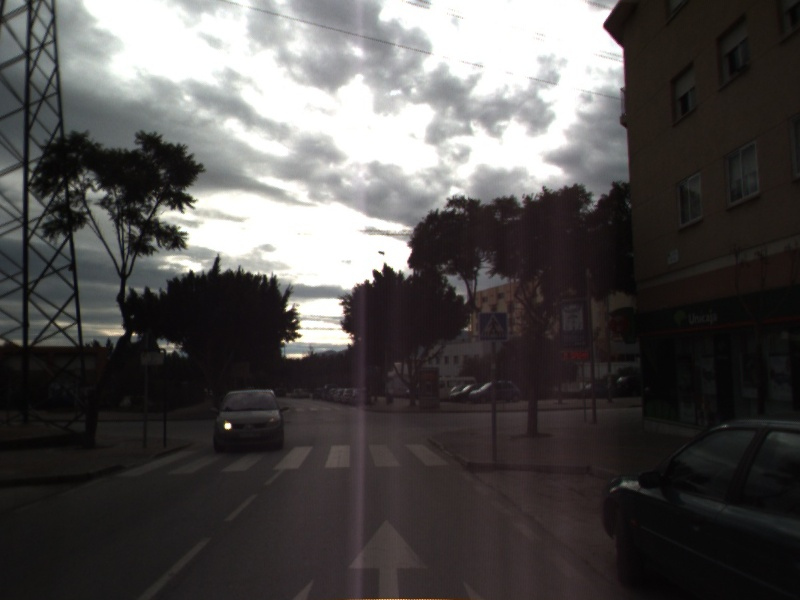STRAIGHT: (345, 515, 434, 600)
